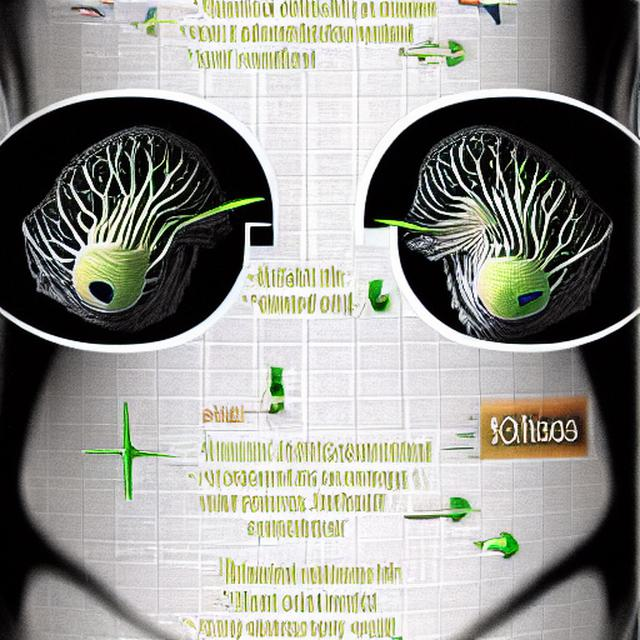Graph: (197, 428, 274, 467), (302, 69, 355, 101)
